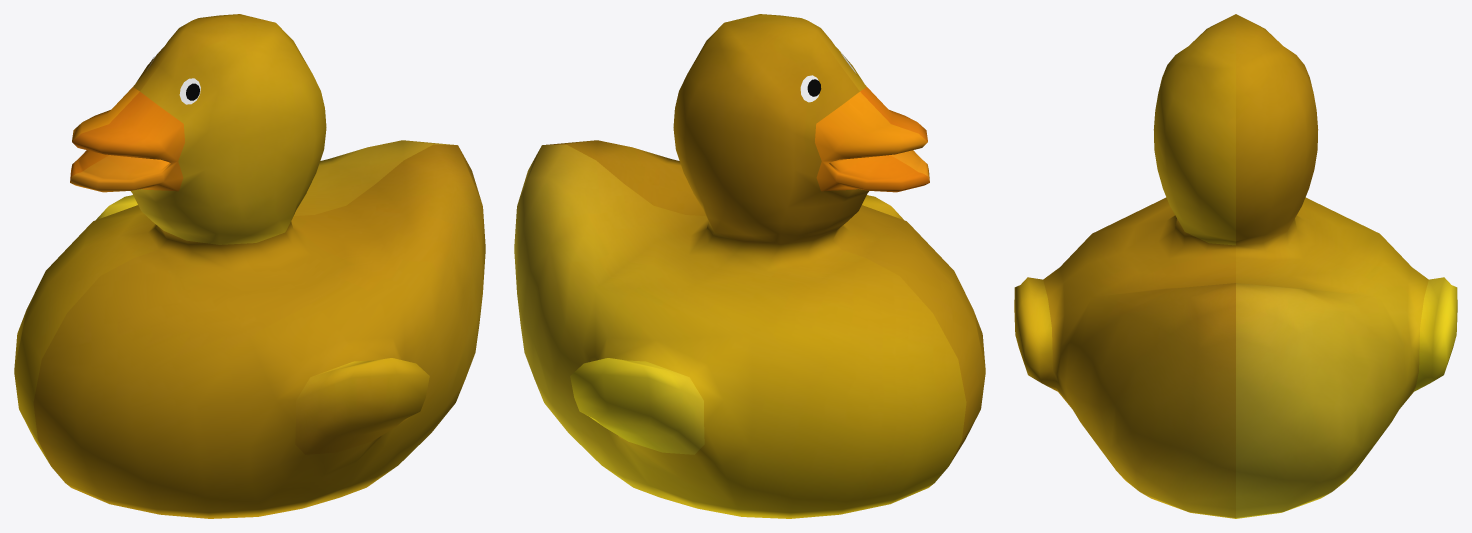
Rendered from duck.fbx.
The picture shows the model from 3 angles, left to right: view 1: azimuth 30°, elevation 25°; view 2: azimuth 150°, elevation 25°; view 3: azimuth 270°, elevation 25°; orthographic projection. The views are drawn at different scales.
Visible parts, largest first — view 1: Cube.001_Cube.002, b1; view 2: Cube.001_Cube.002, b1; view 3: Cube.001_Cube.002.
Boxes of the visible parts, x1=… form: Cube.001_Cube.002: x1=14, y1=14, x2=485, y2=518; b1: x1=70, y1=87, x2=184, y2=192; Cube.001_Cube.002: x1=514, y1=14, x2=985, y2=518; b1: x1=815, y1=87, x2=929, y2=192; Cube.001_Cube.002: x1=1014, y1=14, x2=1457, y2=518.
Size of the model in its own units: 1.12 by 1.09 by 1.05.
4 materials, 2 textured.
